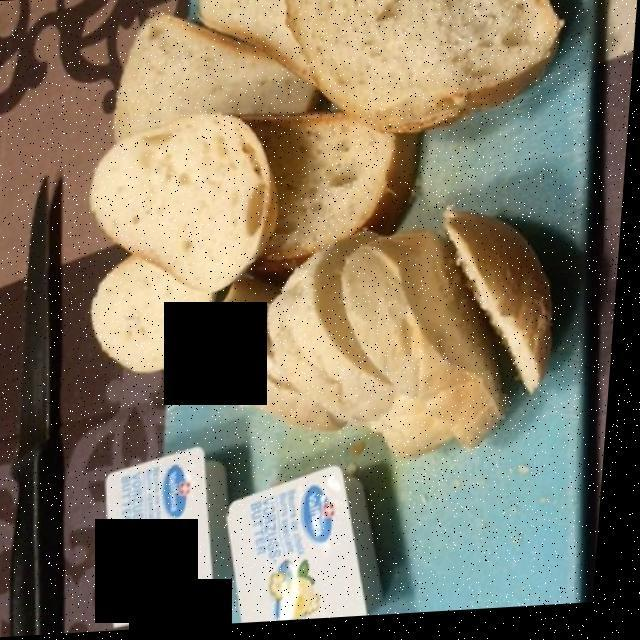bread: (82, 7, 566, 426)
butter: (107, 443, 388, 624)
